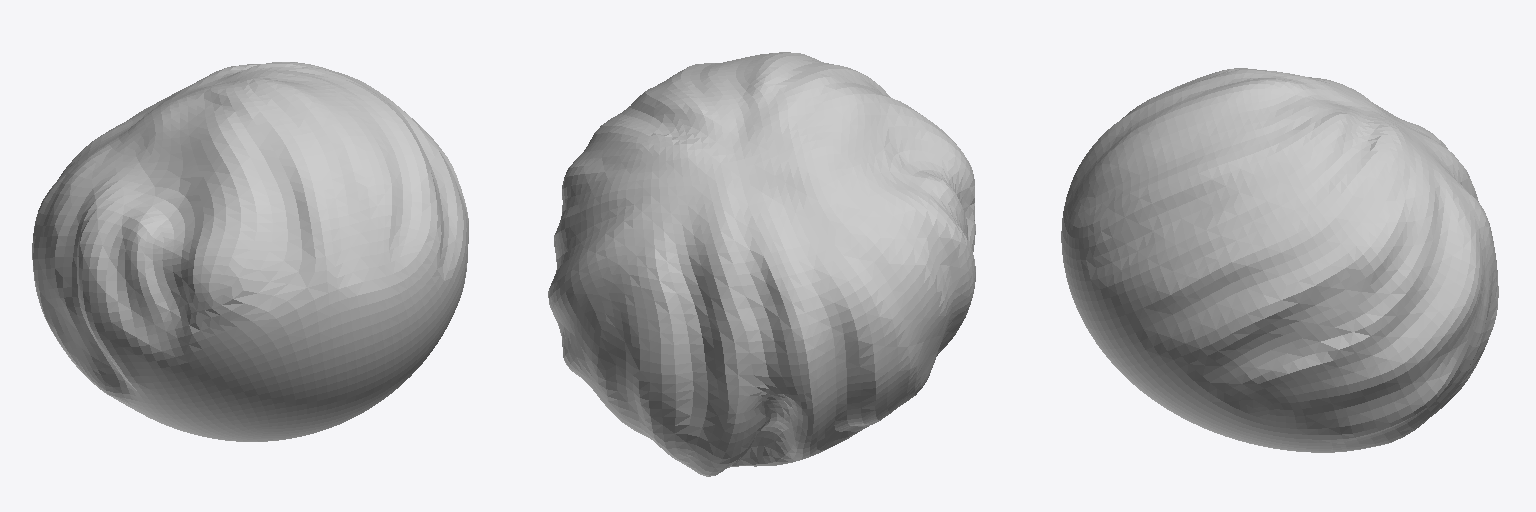
The model's file is grandma_bun_block.OBJ.
The picture shows the model from 3 angles: view 1: azimuth 30°, elevation 25°; view 2: azimuth 150°, elevation 25°; view 3: azimuth 270°, elevation 25°; orthographic projection.
Parts seen in each view (by area): view 1: Group776; view 2: Group776; view 3: Group776.
Boxes of the visible parts, x1,y1,x2,y2 form: Group776: [32, 62, 468, 441]; Group776: [548, 52, 975, 476]; Group776: [1061, 68, 1498, 452].
Size of the model in its own units: 0.2118 by 0.1925 by 0.2148.